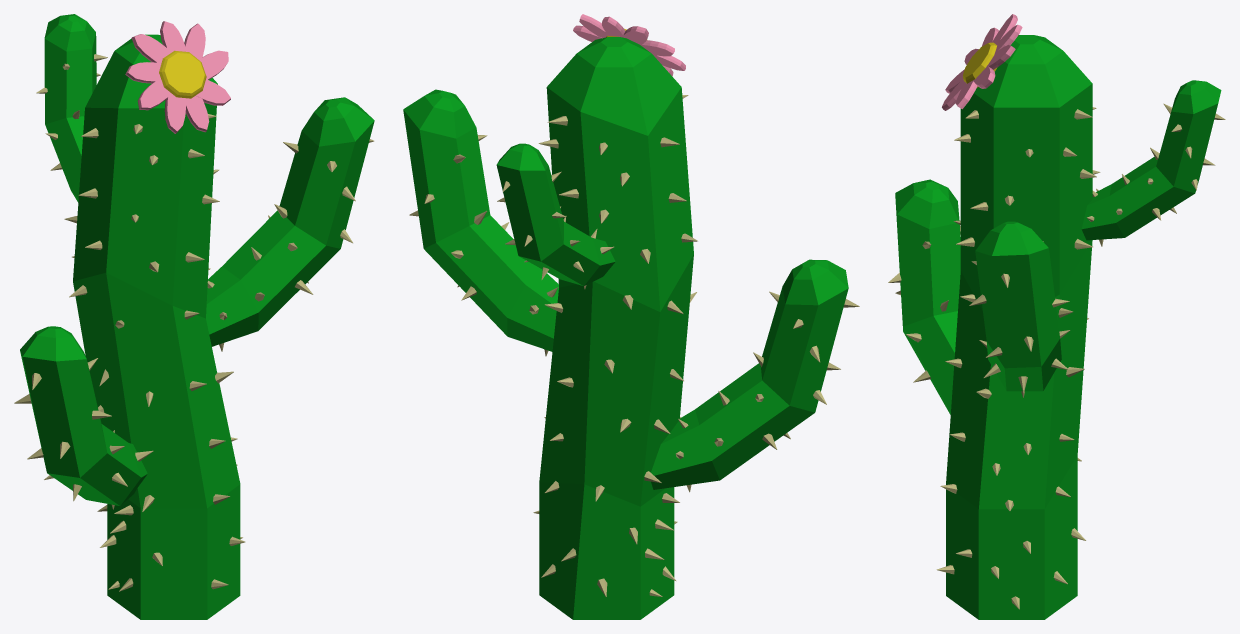
Rendered from cactus_1.fbx.
The picture shows the model from 3 angles, left to right: view 1: azimuth 30°, elevation 25°; view 2: azimuth 150°, elevation 25°; view 3: azimuth 270°, elevation 25°; orthographic projection. The views are drawn at different scales.
Parts seen in each view (by area): view 1: Cylinder.431; view 2: Cylinder.431; view 3: Cylinder.431.
Boxes of the visible parts, x1,y1,x2,y2 form: Cylinder.431: (14,14,374,619); Cylinder.431: (403,14,859,619); Cylinder.431: (888,14,1225,619).
Size of the model in its own units: 9254 by 12875 by 6935.
